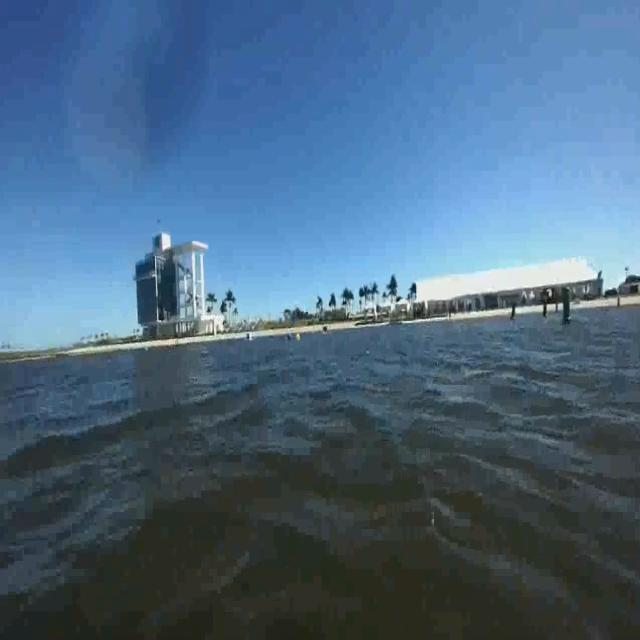green-column-buoy: (561, 288, 574, 326)
